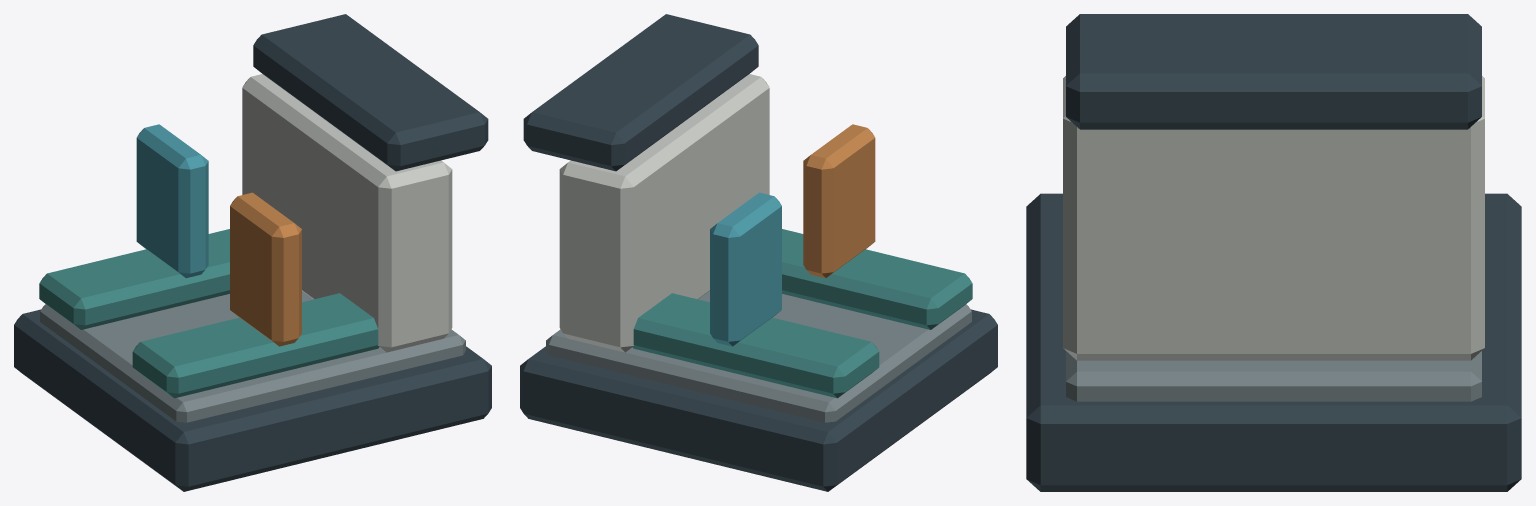
File: phw_priority_merger.glb
3 views of the same model, side by side, from view 1: azimuth 30°, elevation 25°; view 2: azimuth 150°, elevation 25°; view 3: azimuth 270°, elevation 25° (orthographic). The views are drawn at different scales.
Visible parts, largest first — view 1: body, gate_weighted, gate_priority; view 2: body, gate_priority, gate_weighted; view 3: body.
Boxes of the visible parts, <box> form: body: <box>14,14,491,491</box>; gate_weighted: <box>136,124,208,278</box>; gate_priority: <box>230,192,301,346</box>; body: <box>520,14,997,491</box>; gate_priority: <box>803,124,875,278</box>; gate_weighted: <box>710,192,781,346</box>; body: <box>1026,14,1521,491</box>.
Bounding box in the file's own units: 0.97 × 0.835 × 0.88.
